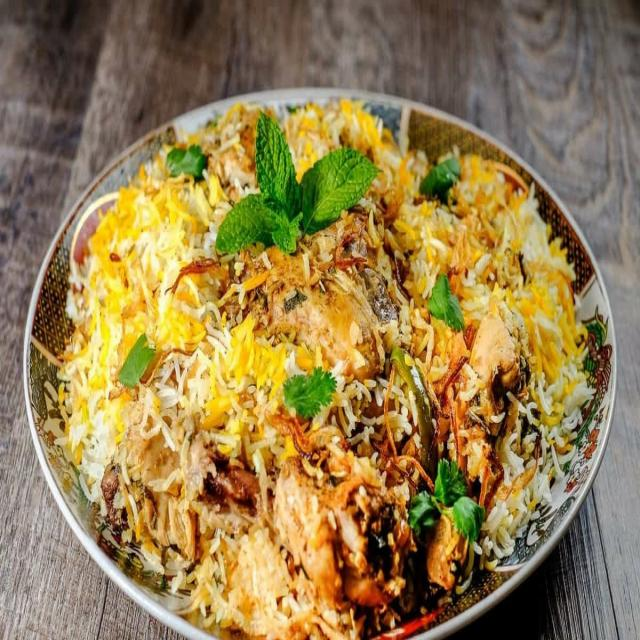Biryani: (56, 99, 594, 640)
